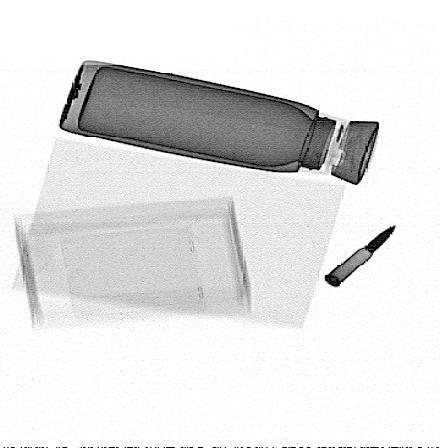Bullet: (325, 224, 397, 287)
